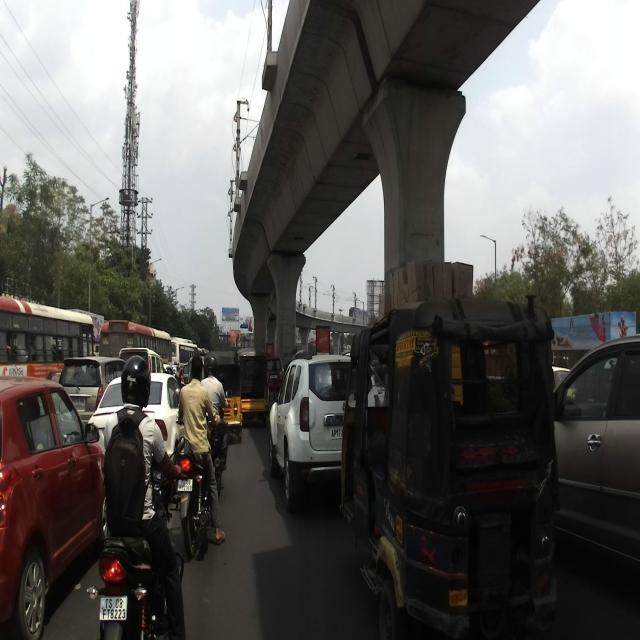car: (0, 378, 114, 639), (552, 329, 638, 588), (268, 347, 378, 510), (87, 373, 184, 498), (54, 354, 129, 429)
motorcycle: (85, 433, 191, 638), (175, 415, 216, 557), (200, 384, 233, 497)
truck: (338, 294, 562, 640)
